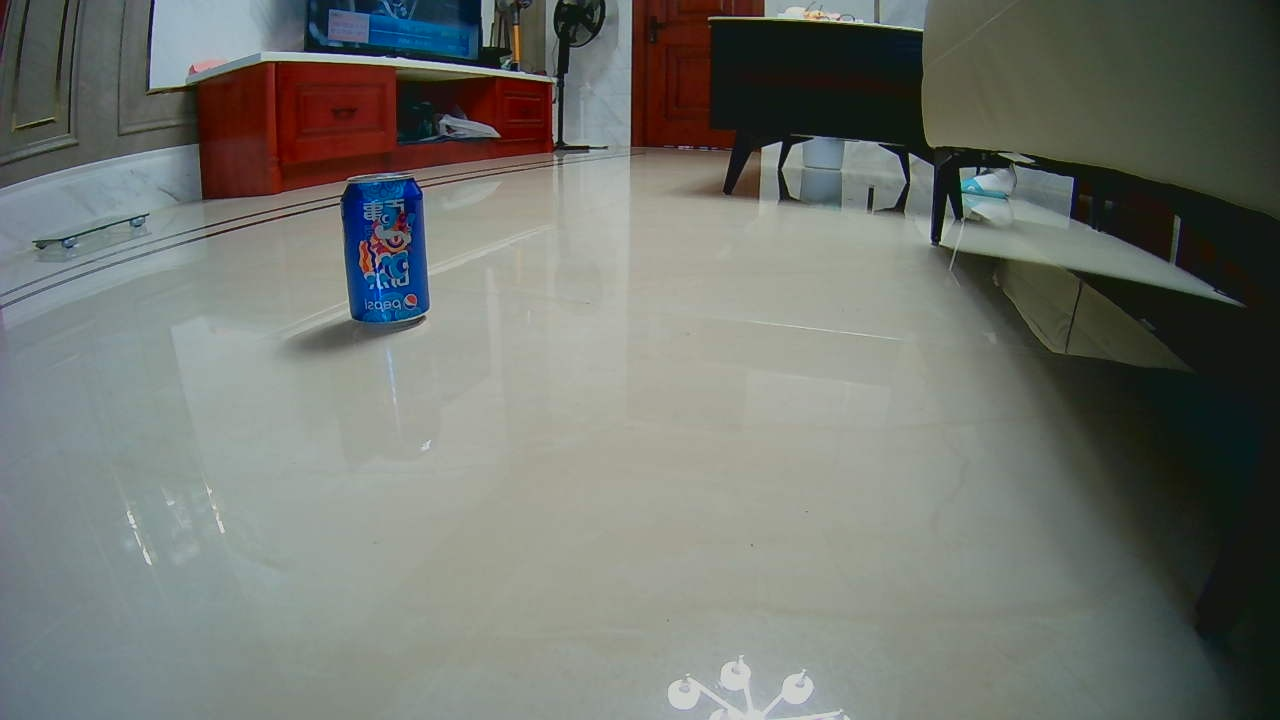pessi: (342, 174, 429, 325)
